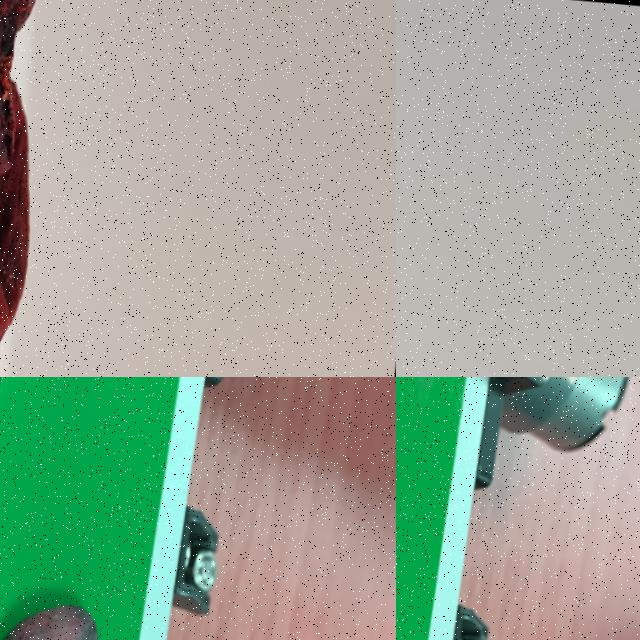Agglomerated_cocoabeans: (0, 0, 107, 376)
Fine_cocoabeans: (0, 411, 157, 639)
